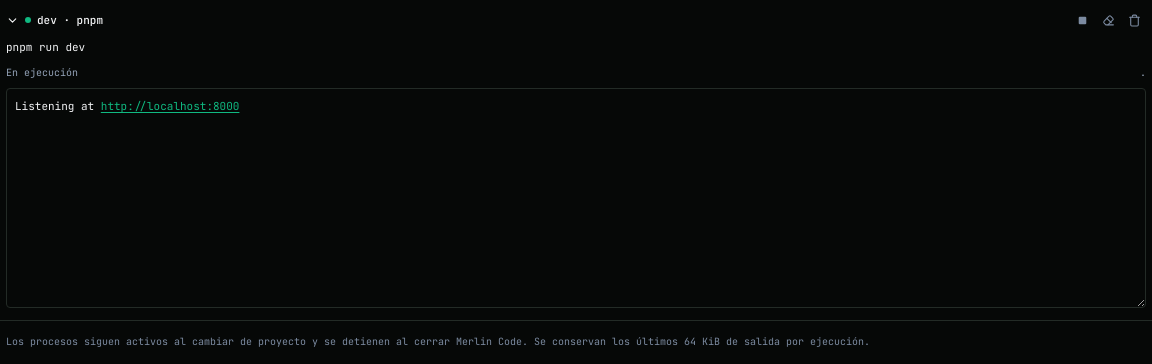
application execution controls › detects links as logs arrive and removes them when logs are cleared
expect the link "http://localhost:8000" is shown: met, box [101,99,239,113]
Step 1. Click the button named "Limpiar logs" → (1108, 20), box [1096,8,1120,32]
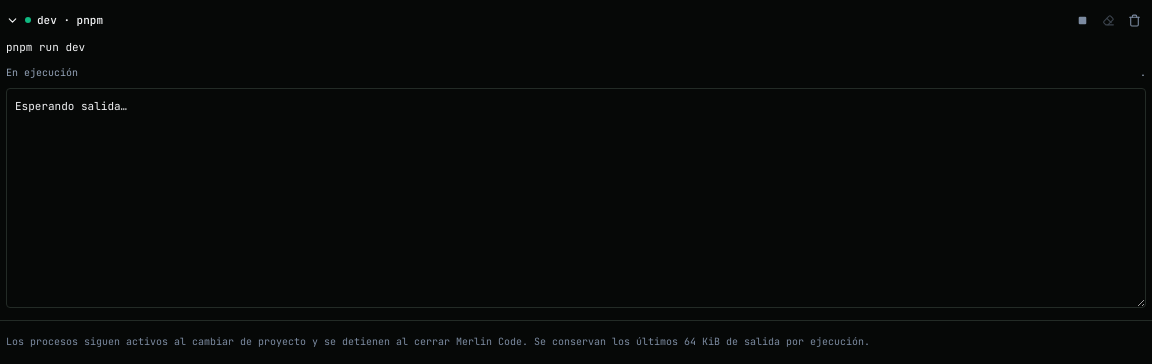
expect the link "http://localhost:8000" is gone: met
